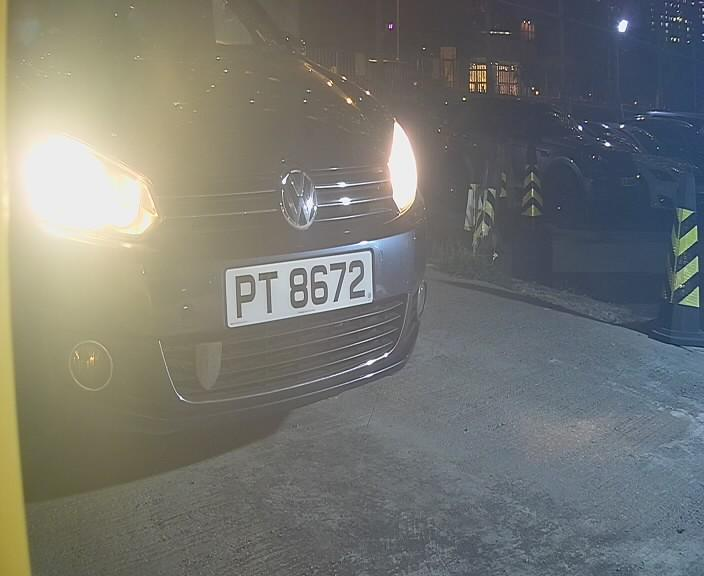privatecar: (23, 19, 444, 456)
